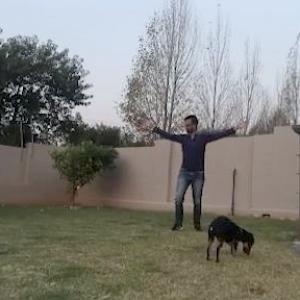takeoff: (145, 110, 260, 241)
